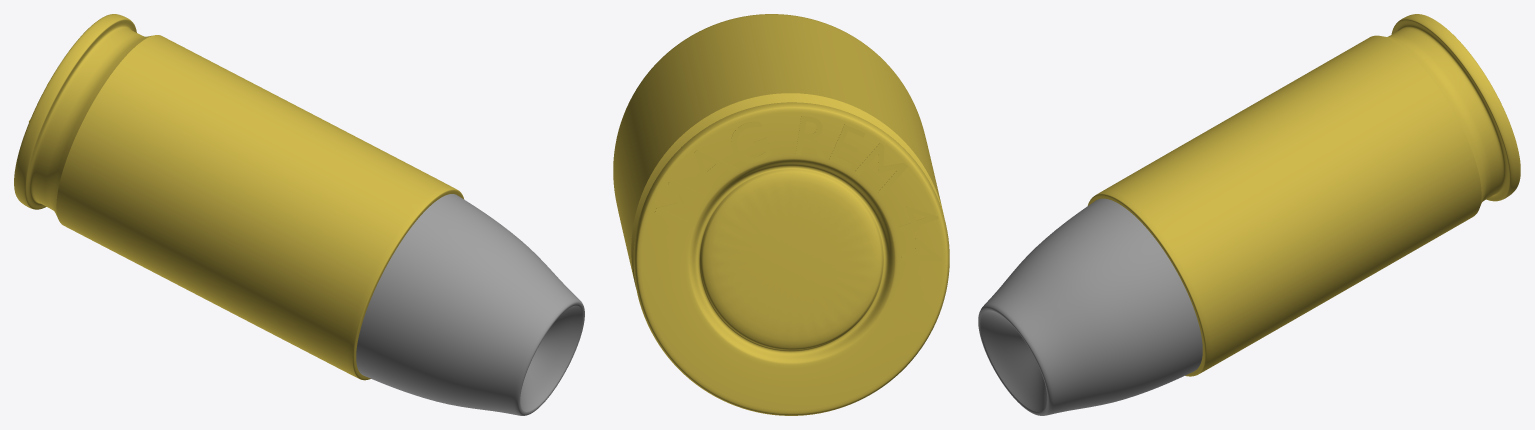
File: AmmoPrefab.fbx
3 renders of one model, left to right at view 1: azimuth 30°, elevation 25°; view 2: azimuth 150°, elevation 25°; view 3: azimuth 270°, elevation 25°, orthographic. The views are drawn at different scales.
Parts seen in each view (by area): view 1: Text; view 2: Text; view 3: Text.
Part boxes in pixels (x1=…): Text: x1=14, y1=14, x2=584, y2=415; Text: x1=613, y1=14, x2=949, y2=415; Text: x1=978, y1=14, x2=1520, y2=415.
Bounding box in the file's own units: 64.88 × 48.1 × 83.45.
